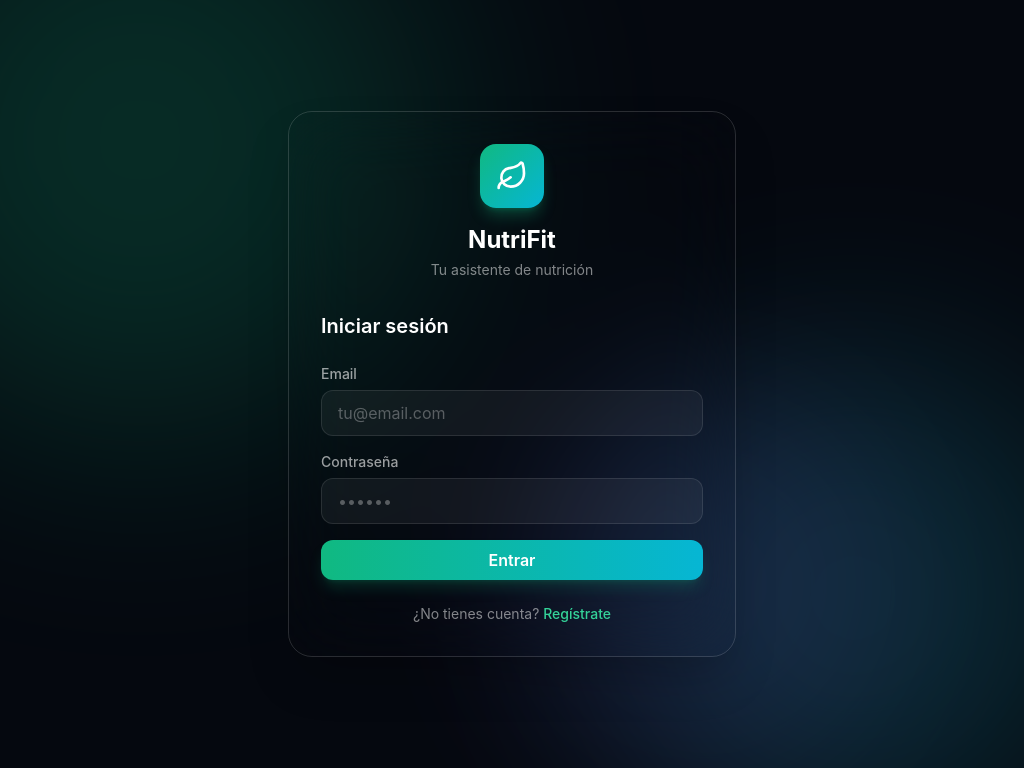
Test: Login Page › should show error message on failed login
Type "wrong@example.com" into the field labelled "Email" at {"x": 512, "y": 413}, box [321,390,703,436]
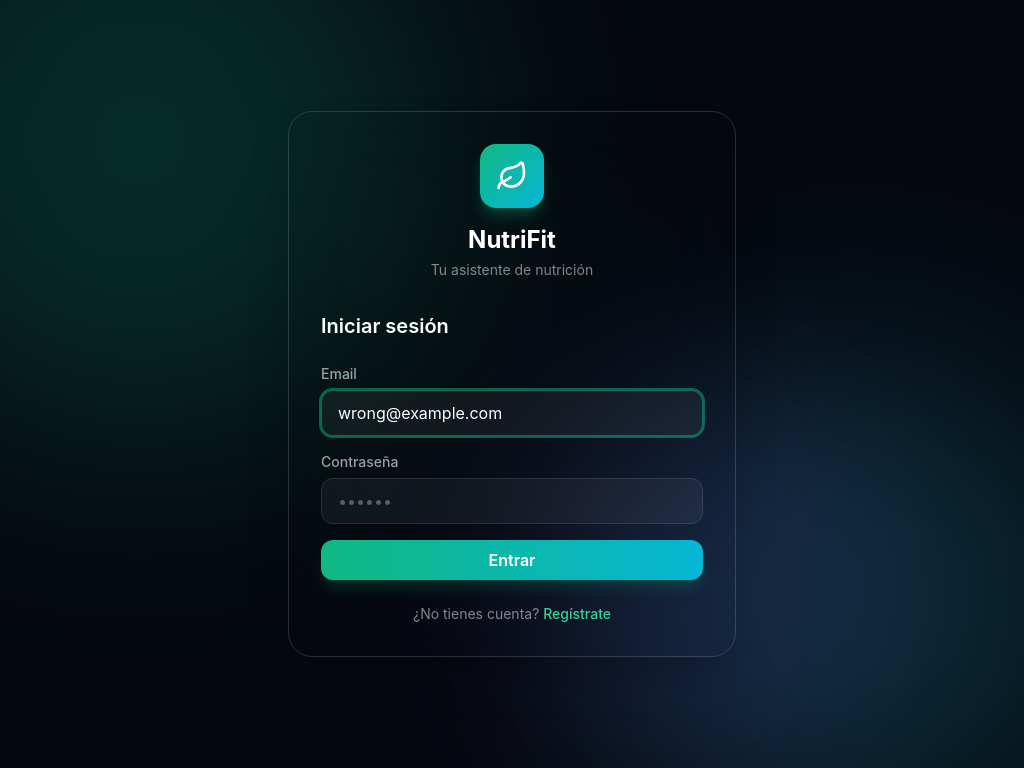
Type "wrongpassword" into the password field labelled "Contraseña" at {"x": 512, "y": 501}, box [321,478,703,524]
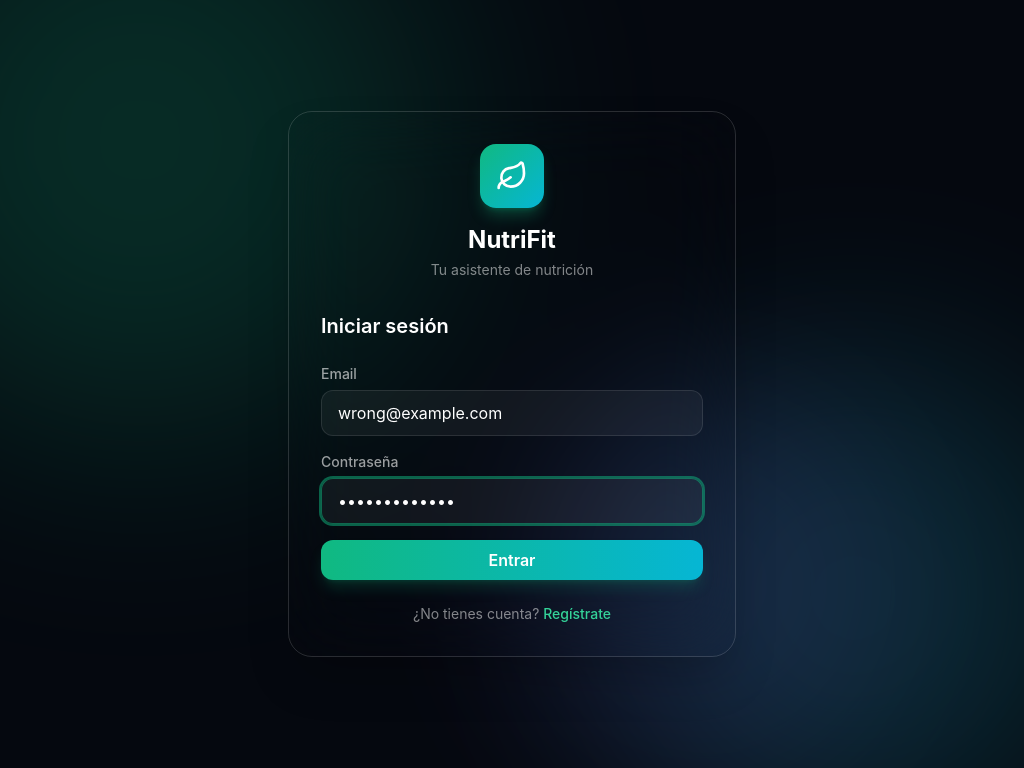
Click the button "Entrar" at {"x": 512, "y": 560}, box [321,540,703,580]
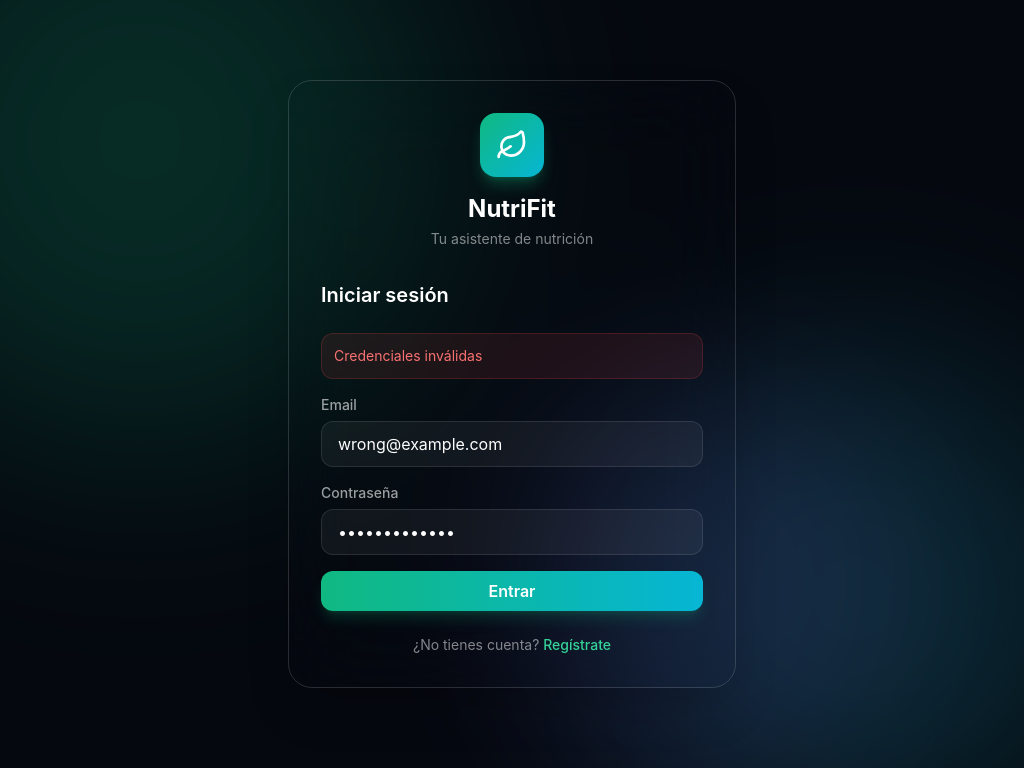
Expected: the text "Credenciales inválidas" is shown, [321,333,703,379]
